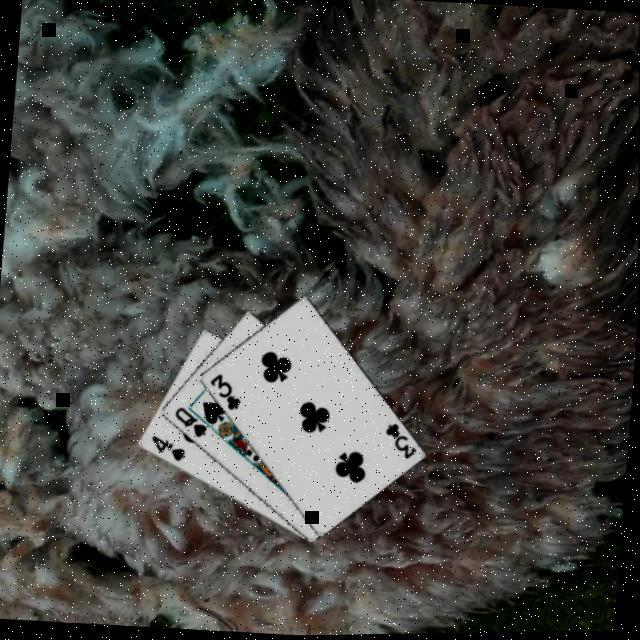3C: (206, 372, 247, 416), (382, 422, 422, 464)
4S: (148, 434, 190, 467)
QS: (172, 406, 212, 442)
